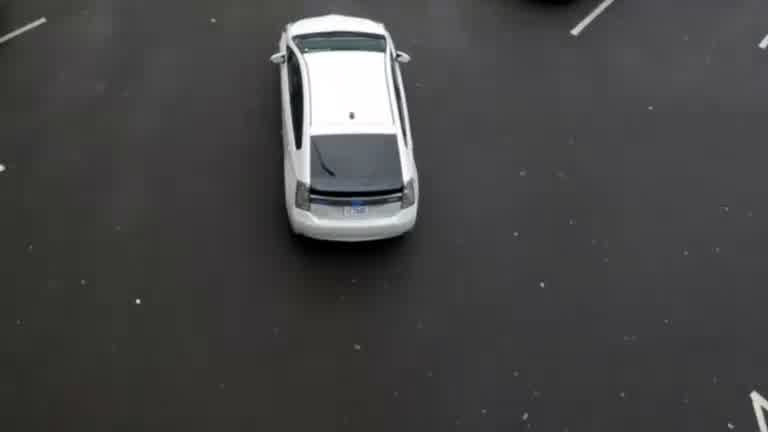car: (262, 11, 466, 266)
